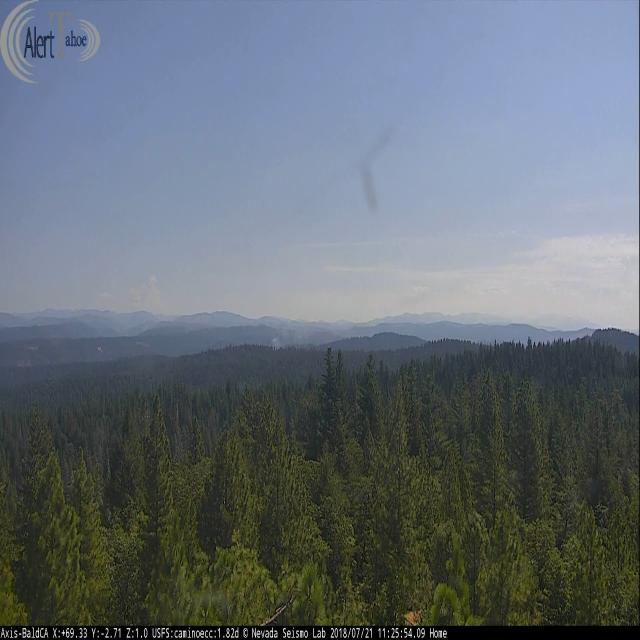smoke: (268, 324, 306, 350)
